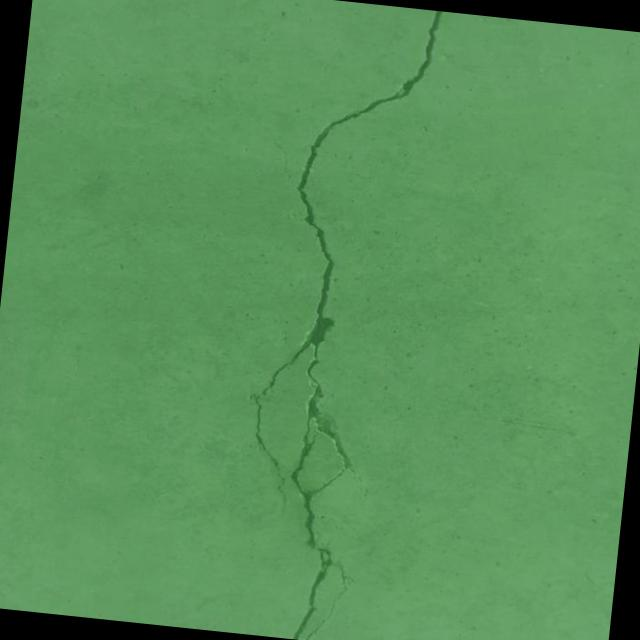crack: (195, 0, 444, 640)
